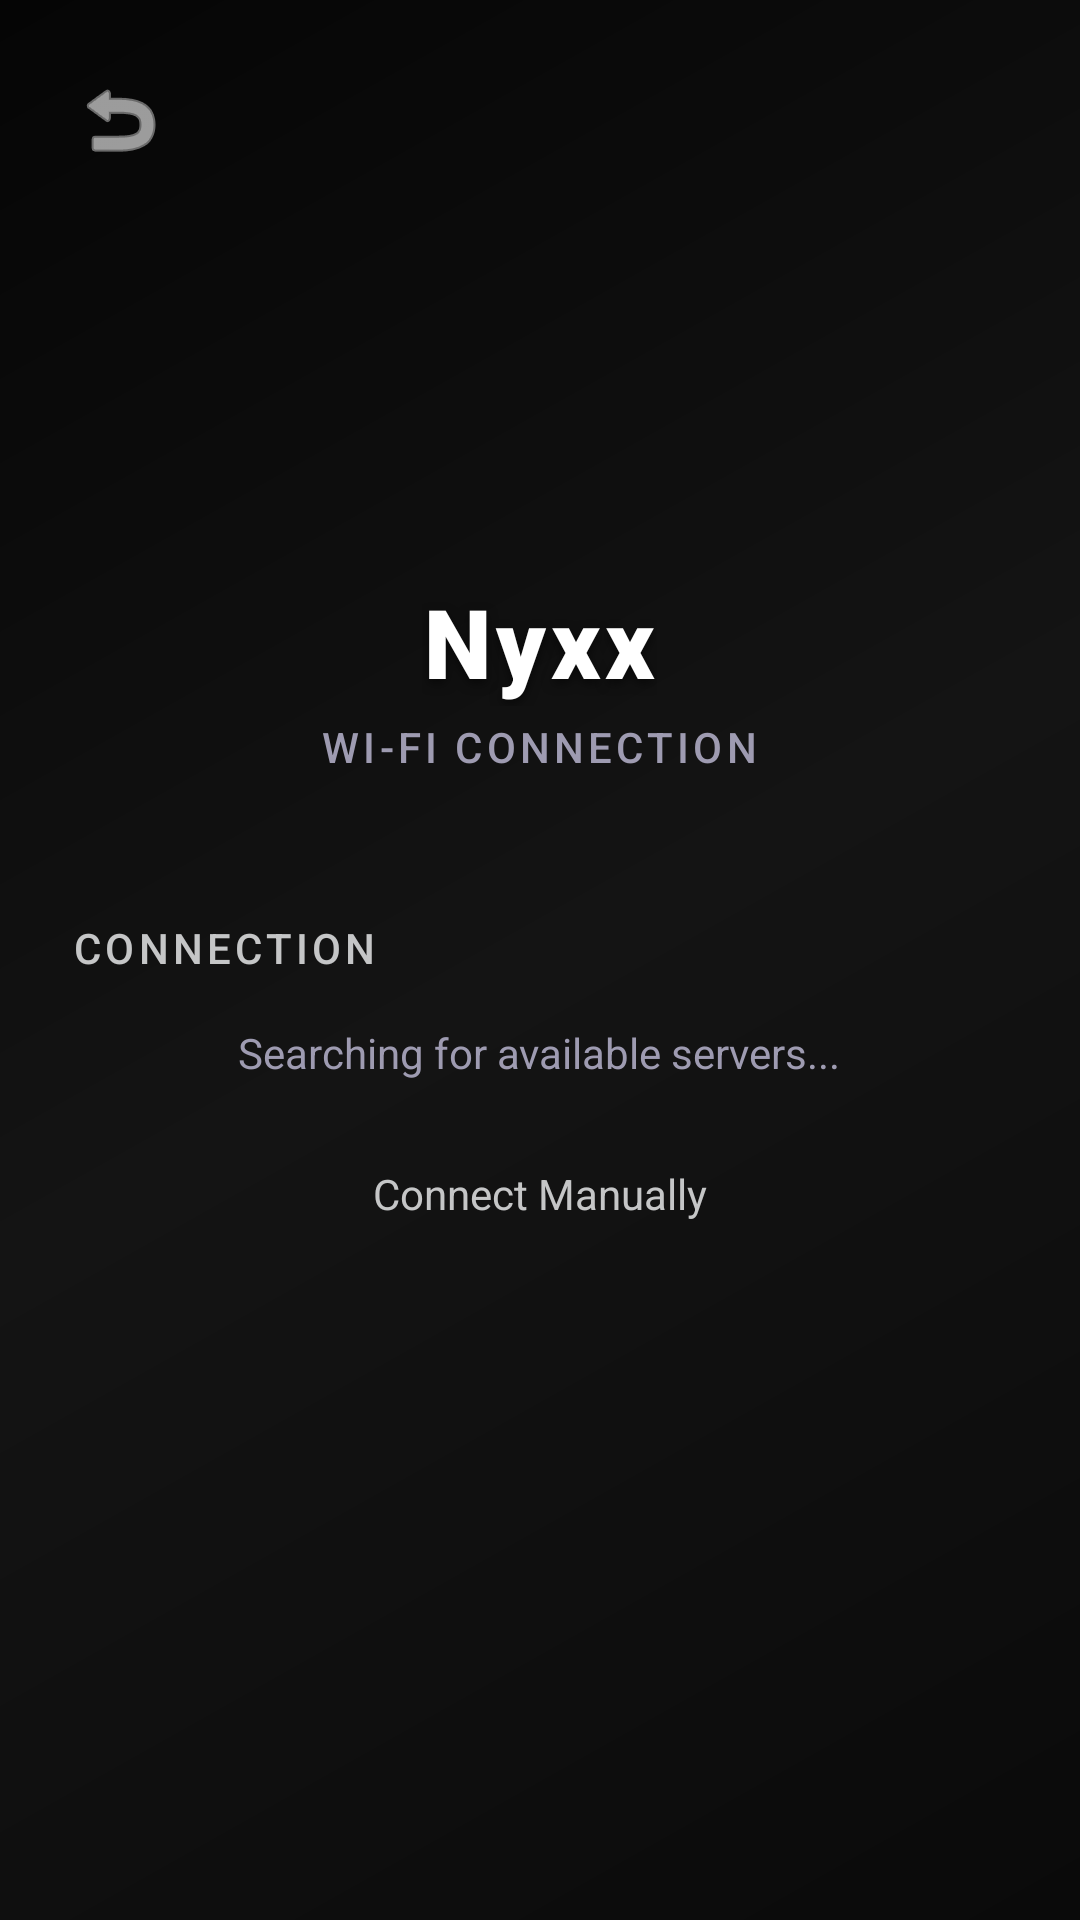

Point at icon controls on the screen. Image size 1080px×1920px, points as point (x, y).
Go Back: point (121, 120)
